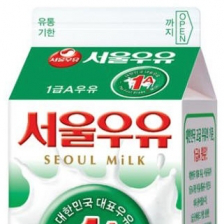milk: (8, 9, 217, 223)
